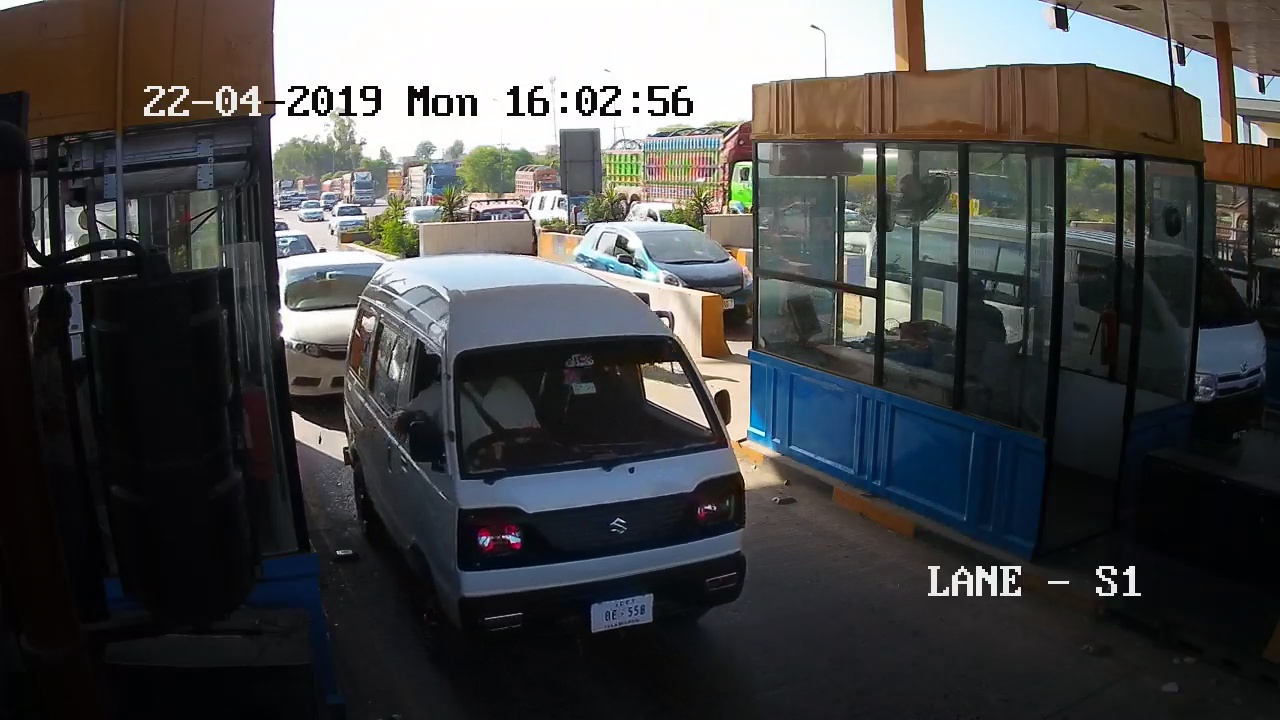Number Plate (Car): (592, 597, 654, 630)
